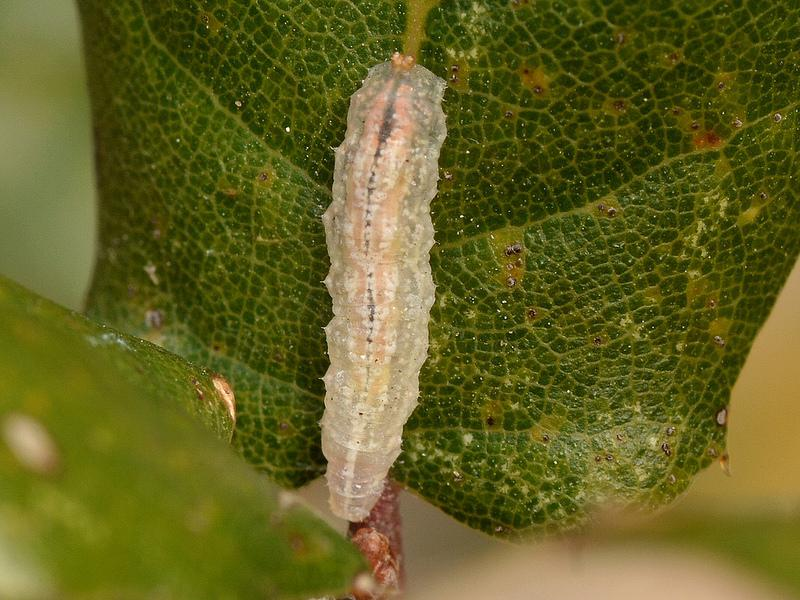grub: (316, 37, 456, 546)
